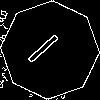I: (25, 25, 68, 66)
